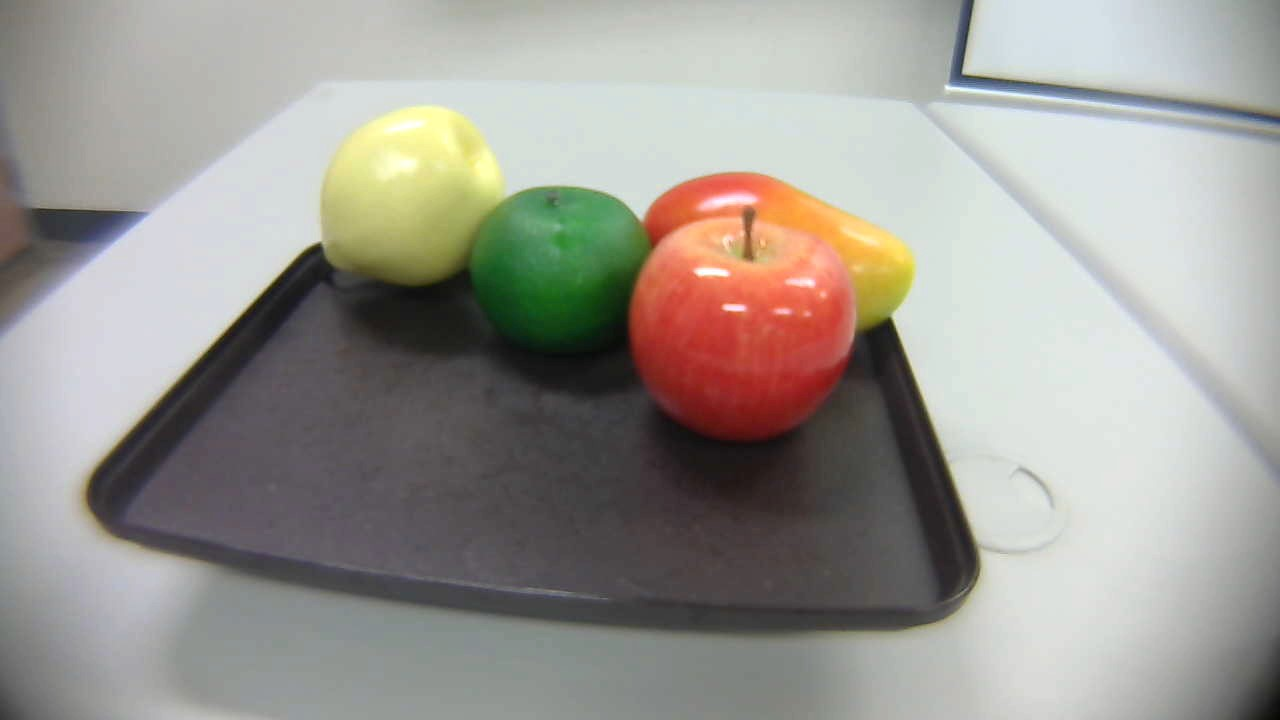green orange: (460, 184, 670, 354)
red apple: (622, 203, 862, 448)
red mango: (630, 156, 915, 341)
western pear: (313, 104, 518, 308)
